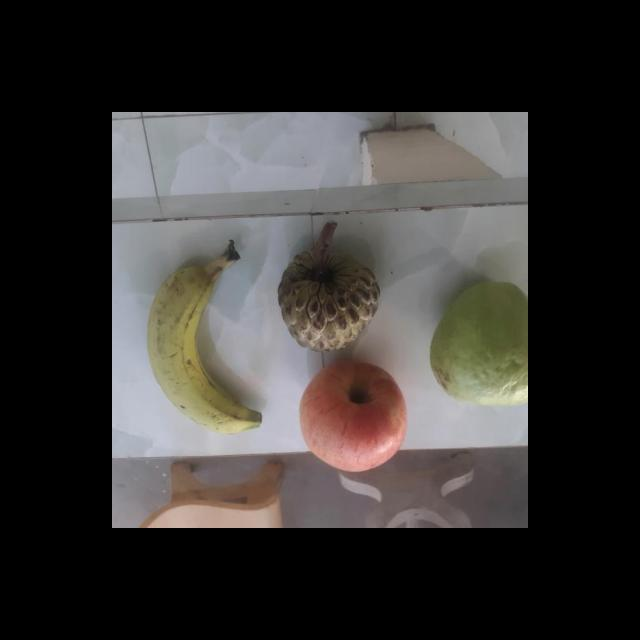Sakya fruit: (280, 242, 386, 352)
apple: (298, 359, 412, 471)
banana: (148, 257, 268, 433)
guava: (434, 284, 528, 404)
